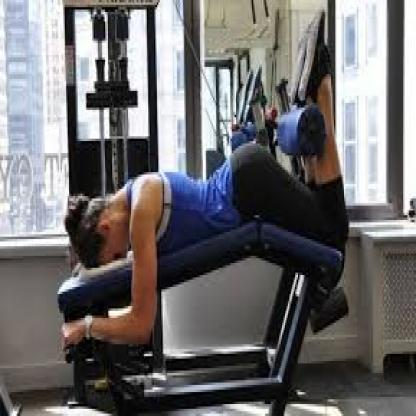reg curl machine: (55, 0, 350, 416)
